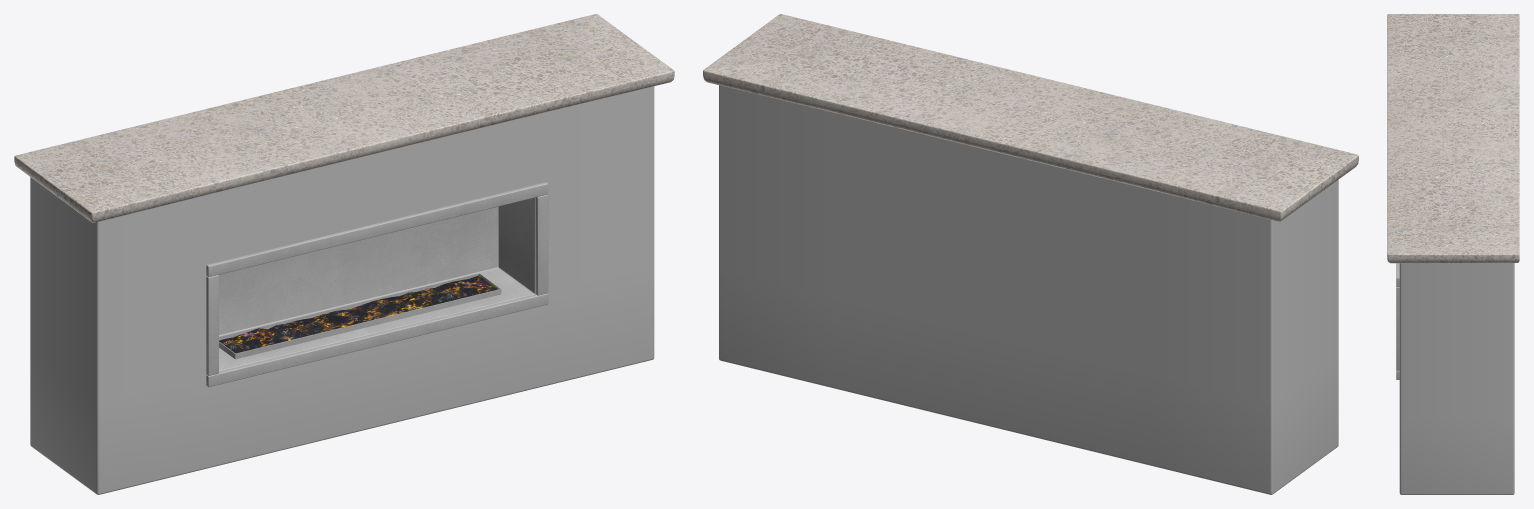
Rendered from GardenFirePlace01_2.FBX.
3 renders of one model, left to right at view 1: azimuth 30°, elevation 25°; view 2: azimuth 150°, elevation 25°; view 3: azimuth 270°, elevation 25°, orthographic. The views are drawn at different scales.
Visible parts, largest first — view 1: GardenFirePlace01_2; view 2: GardenFirePlace01_2; view 3: GardenFirePlace01_2.
Boxes of the visible parts, x1,y1,x2,y2 form: GardenFirePlace01_2: (14, 14, 674, 494); GardenFirePlace01_2: (703, 14, 1358, 494); GardenFirePlace01_2: (1387, 14, 1519, 494).
Size of what is drawn, in the model's own units: 2.72 by 1.3 by 0.6335.
